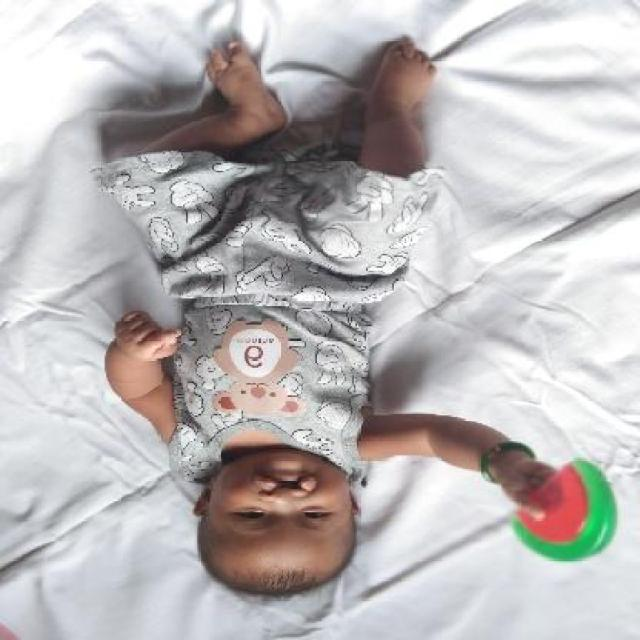baby: (96, 39, 550, 598)
